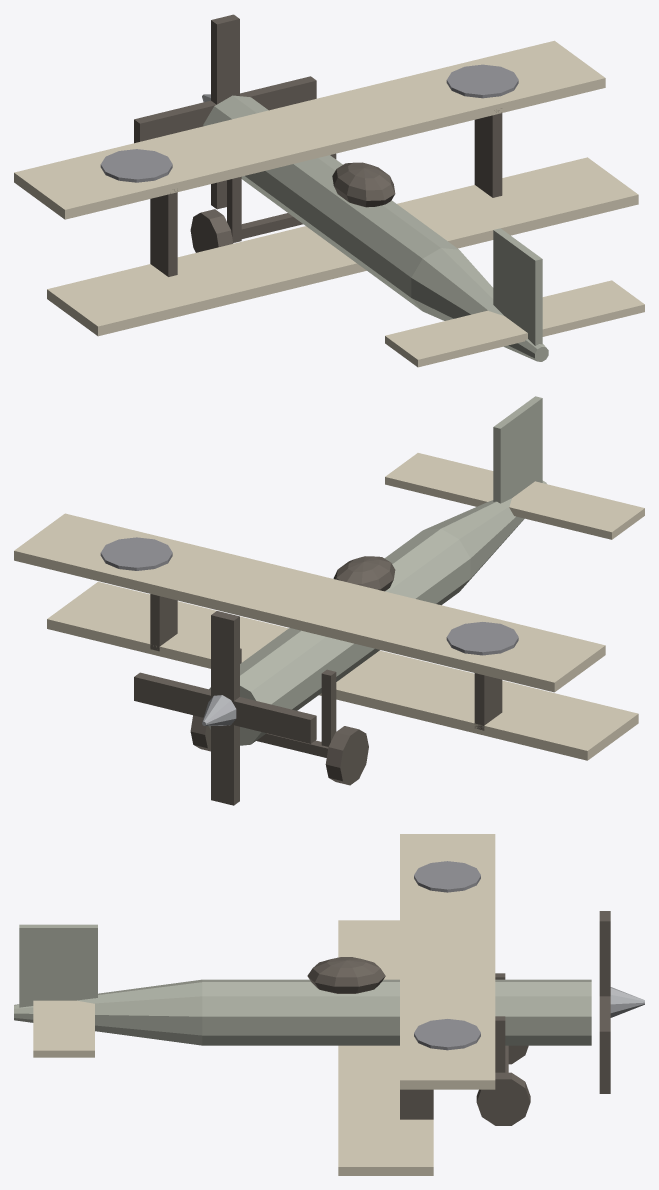
Rendered from enemy-scout.glb.
The picture shows the model from 3 angles, top to bottom: view 1: azimuth 30°, elevation 25°; view 2: azimuth 150°, elevation 25°; view 3: azimuth 270°, elevation 25°; orthographic projection. The views are drawn at different scales.
Parts seen in each view (by area): view 1: enemy-scout; view 2: enemy-scout; view 3: enemy-scout.
Part boxes in pixels (box(x1,y1,x2,y2)): enemy-scout: box(14, 14, 644, 367); enemy-scout: box(14, 396, 644, 805); enemy-scout: box(14, 834, 644, 1175).
Size of the model in its own units: 5.2 by 1.73 by 5.63.
